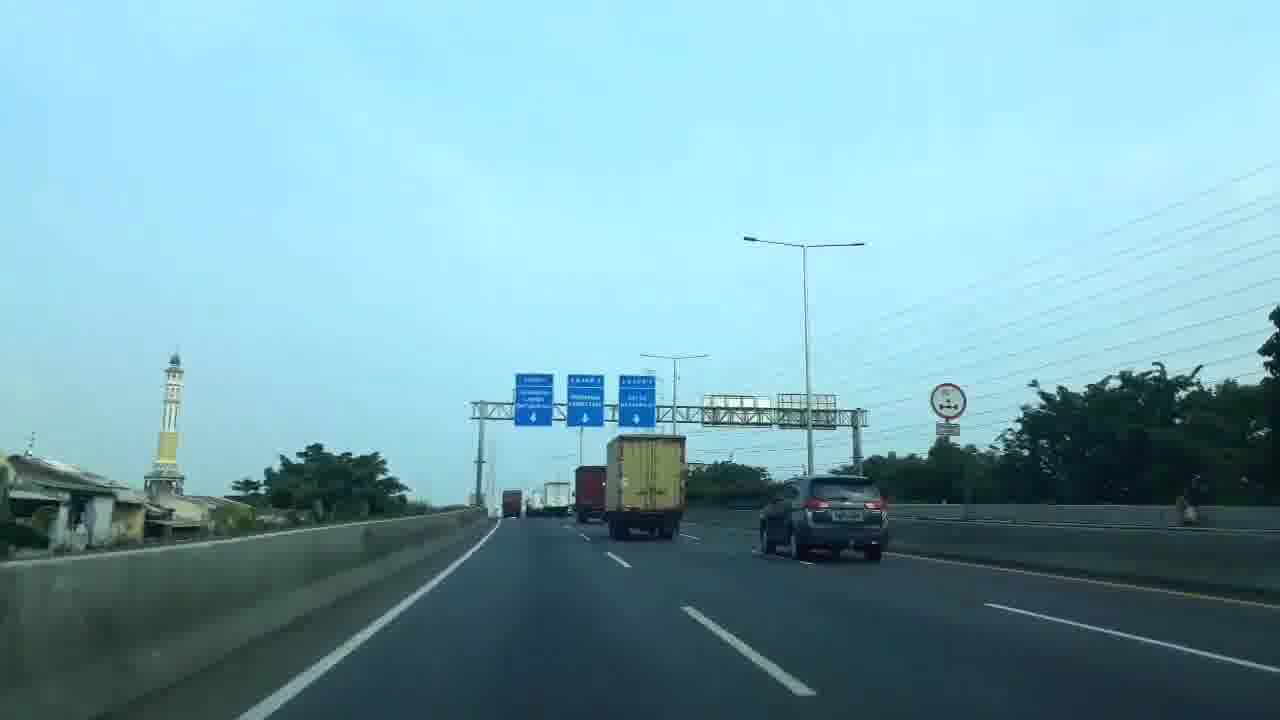plate_positive: (833, 510, 862, 521)
